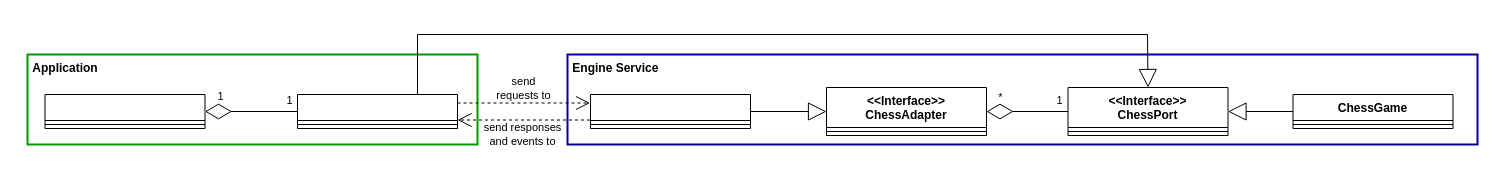
Some shapes in this 1504 by 172 pixel diagram are drawn without their labels. Here are the shapes that lost their labels. From the top down, the centre of each, then its label:
(124,111): ViewController
(377,111): LocalChessProxy
(670,111): LocalChessAdapter
